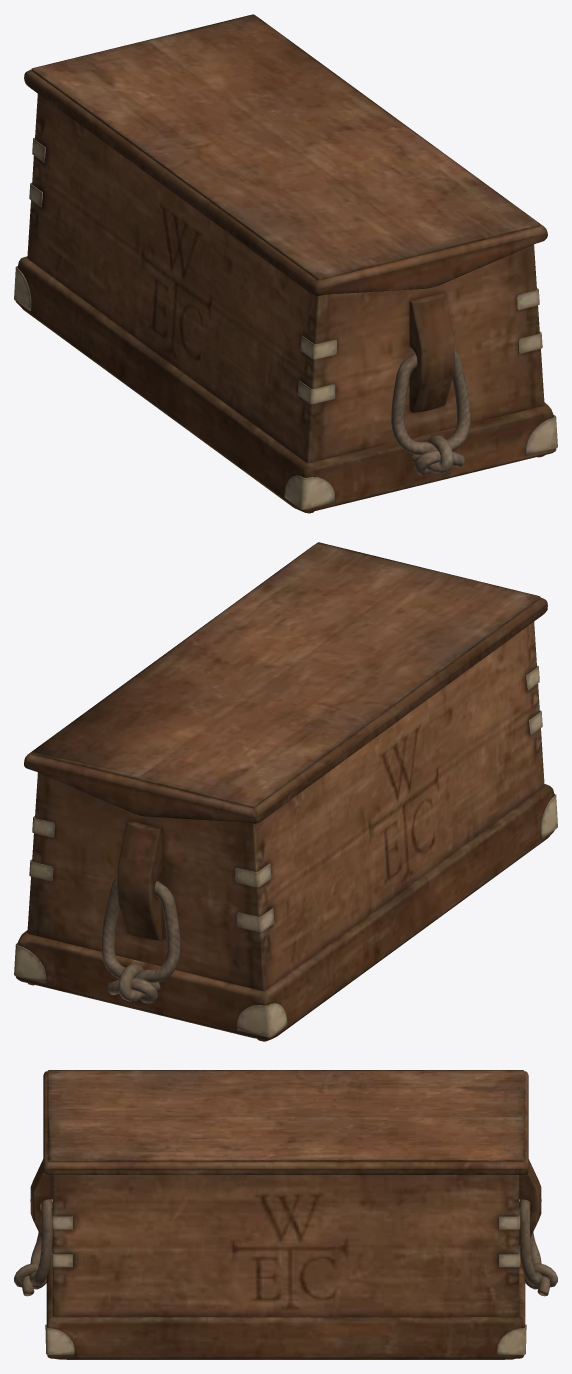
The model's file is wooden_crate_02.glb.
The picture shows the model from 3 angles, top to bottom: view 1: azimuth 30°, elevation 25°; view 2: azimuth 150°, elevation 25°; view 3: azimuth 270°, elevation 25°; orthographic projection. The views are drawn at different scales.
Visible parts, largest first — view 1: wooden_crate_02_crate; view 2: wooden_crate_02_crate; view 3: wooden_crate_02_crate.
Part boxes in pixels (<box>): wooden_crate_02_crate: <box>14,14,557,513</box>; wooden_crate_02_crate: <box>14,542,557,1041</box>; wooden_crate_02_crate: <box>14,1070,557,1359</box>.
Bounding box in the file's own units: 0.5291 × 0.4639 × 1.17.
1 material, 1 textured.
